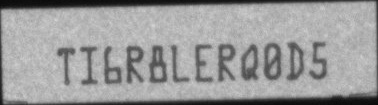0: (263, 42, 283, 80)
5: (309, 41, 328, 79)
6: (103, 45, 123, 85)
8: (148, 45, 168, 84)
D: (286, 41, 304, 81)
E: (194, 44, 213, 82)
I: (79, 44, 100, 85)
L: (172, 44, 190, 82)
Q: (240, 44, 260, 81)
R: (126, 44, 145, 85), (217, 42, 236, 83)
T: (55, 47, 76, 85)
